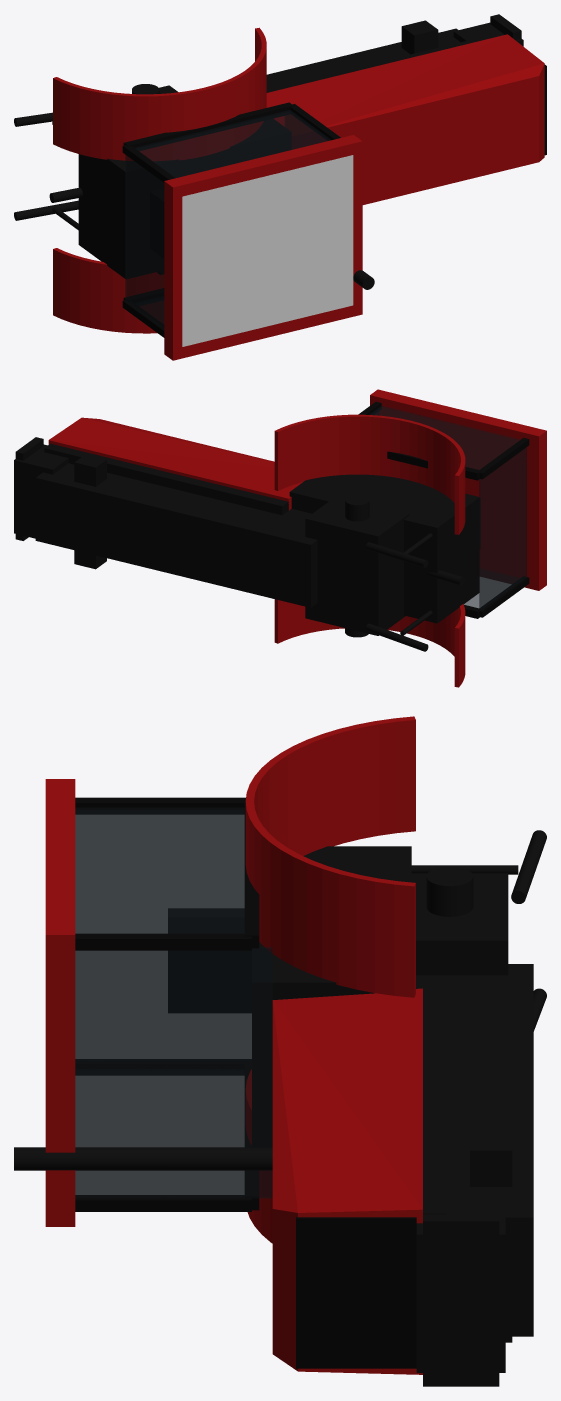
The model's file is body.obj.
The picture shows the model from 3 angles, top to bottom: view 1: azimuth 30°, elevation 25°; view 2: azimuth 150°, elevation 25°; view 3: azimuth 270°, elevation 25°; orthographic projection. The views are drawn at different scales.
Visible parts, largest first — view 1: mf_5m_145_body; view 2: mf_5m_145_body; view 3: mf_5m_145_body.
Part boxes in pixels (x1,y1,x2,y2): mf_5m_145_body: [14, 14, 546, 360]; mf_5m_145_body: [14, 389, 546, 687]; mf_5m_145_body: [14, 716, 546, 1386].
Bounding box in the file's own units: 4.35 × 2.08 × 2.51.
